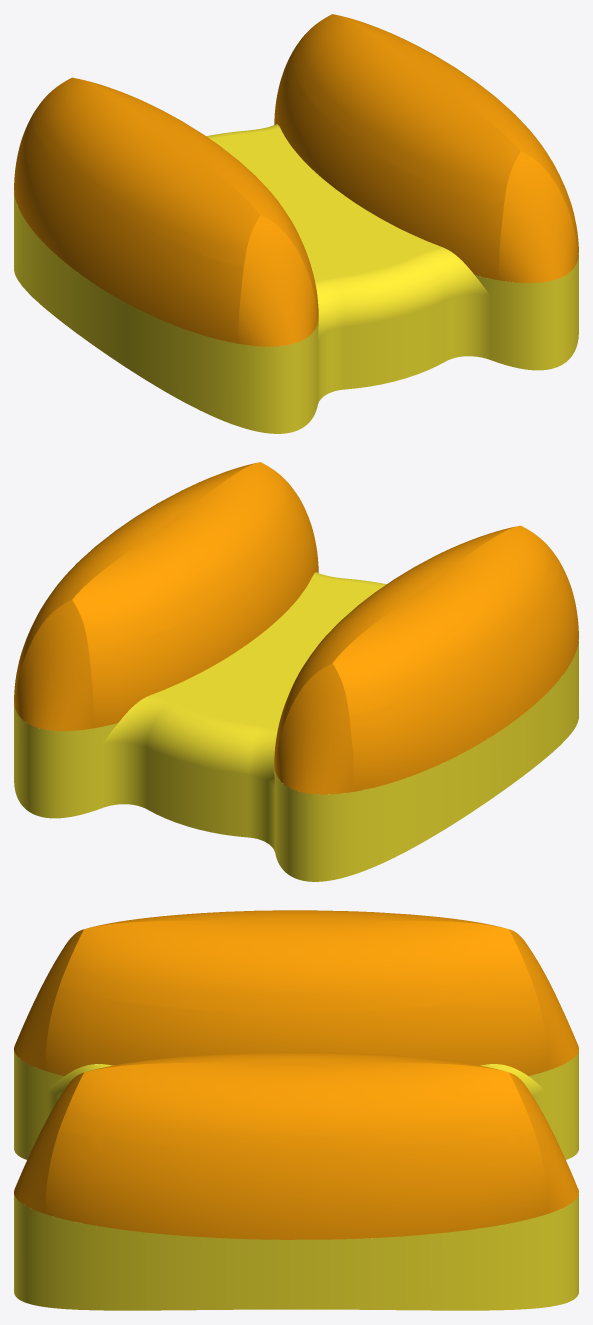
File: hip thingy big.glb
3 views of the same model, one above another, from view 1: azimuth 30°, elevation 25°; view 2: azimuth 150°, elevation 25°; view 3: azimuth 270°, elevation 25° (orthographic). The views are drawn at different scales.
Size of the model in its own units: 0.0787 by 0.0351 by 0.0787.
